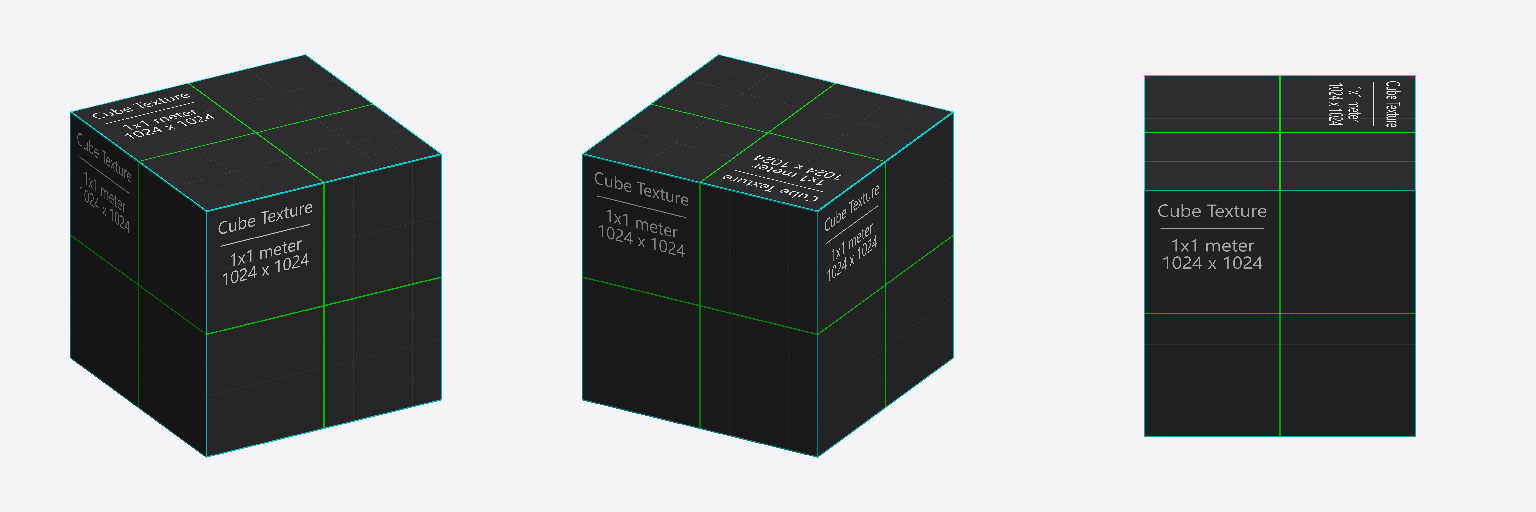
3 renders of one model, left to right at view 1: azimuth 30°, elevation 25°; view 2: azimuth 150°, elevation 25°; view 3: azimuth 270°, elevation 25°, orthographic.
Visible parts, largest first — view 1: Cube; view 2: Cube; view 3: Cube.
Boxes of the visible parts, <box> form: Cube: <box>70,54,441,457</box>; Cube: <box>582,54,953,457</box>; Cube: <box>1144,75,1415,436</box>.
Bounding box in the file's own units: 1 × 1 × 1.
1 materials, 1 textured.